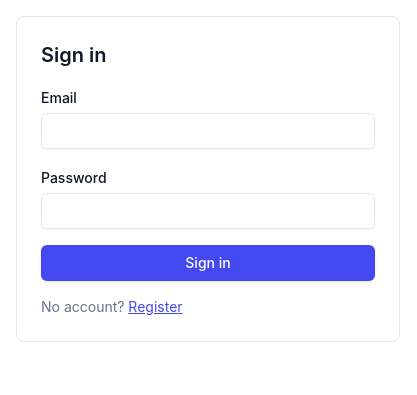
Test: LoginPage › surfaces a 401 as a form-level error
In the field labelled "Email": (208, 131) left=41, top=113, right=375, bottom=149, type "a@b.com"
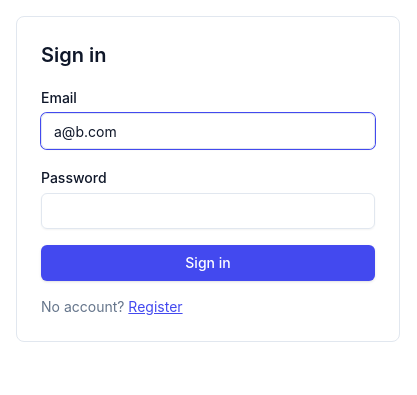
In the password field labelled "Password": (208, 211) left=41, top=193, right=375, bottom=229, type "wrongpass"
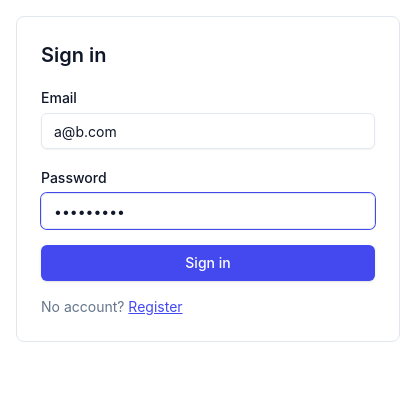
Click the button "Sign in": (208, 263) left=41, top=245, right=375, bottom=281
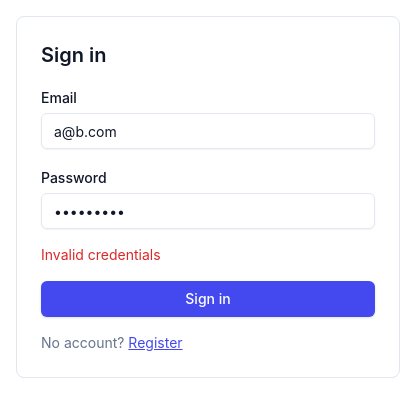
Check: the text "Invalid credentials" is shown, box left=41, top=246, right=161, bottom=263
